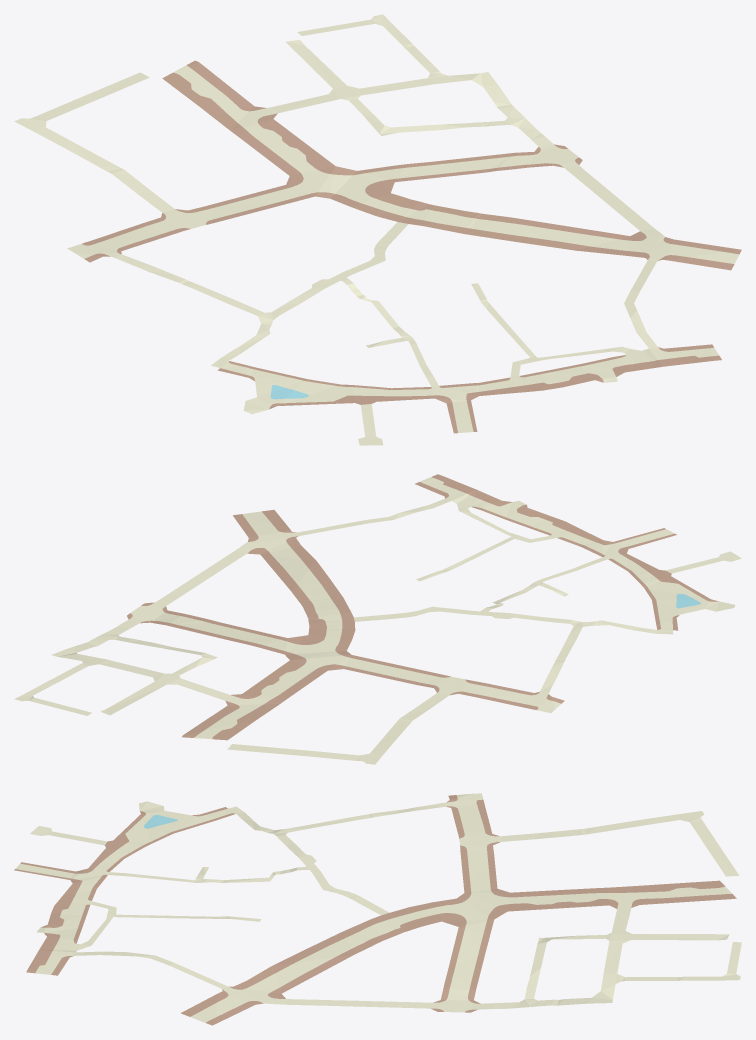
File: data70.glb
3 renders of one model, top to bottom at view 1: azimuth 30°, elevation 25°; view 2: azimuth 150°, elevation 25°; view 3: azimuth 270°, elevation 25°, orthographic. The views are drawn at different scales.
Size of the model in its own units: 243 by 15.65 by 330.
